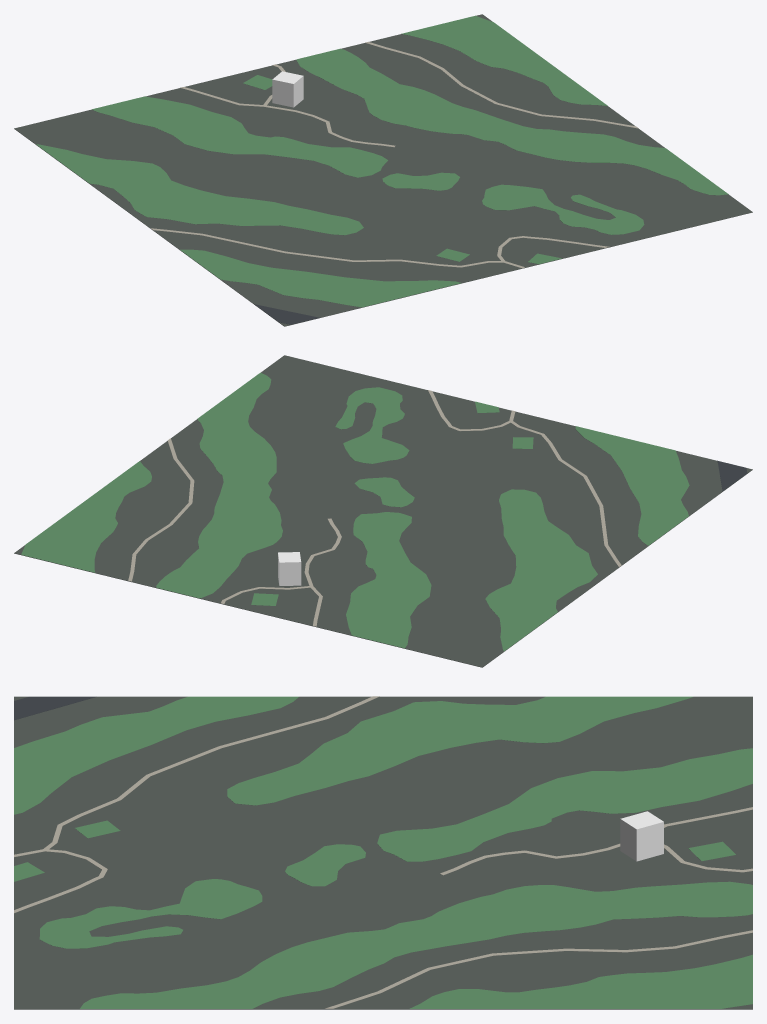
The model's file is tile_001_005.glb.
3 views of the same model, one above another, from view 1: azimuth 30°, elevation 25°; view 2: azimuth 150°, elevation 25°; view 3: azimuth 270°, elevation 25° (orthographic). The views are drawn at different scales.
Visible parts, largest first — view 1: tile_001_005_ground, tile_001_005_open_spaces, tile_001_005_paths, tile_001_005_buildings_neutral, tile_001_005_roads; view 2: tile_001_005_ground, tile_001_005_open_spaces, tile_001_005_paths, tile_001_005_buildings_neutral, tile_001_005_roads; view 3: tile_001_005_ground, tile_001_005_open_spaces, tile_001_005_paths, tile_001_005_buildings_neutral, tile_001_005_roads.
Part boxes in pixels (bbox=[...]): tile_001_005_ground: bbox=[14, 14, 752, 326]; tile_001_005_open_spaces: bbox=[36, 15, 728, 307]; tile_001_005_paths: bbox=[151, 41, 638, 268]; tile_001_005_buildings_neutral: bbox=[272, 71, 303, 107]; tile_001_005_roads: bbox=[254, 304, 319, 324]; tile_001_005_ground: bbox=[14, 355, 752, 667]; tile_001_005_open_spaces: bbox=[21, 372, 689, 651]; tile_001_005_paths: bbox=[128, 390, 621, 626]; tile_001_005_buildings_neutral: bbox=[278, 552, 301, 585]; tile_001_005_roads: bbox=[717, 460, 747, 491]; tile_001_005_ground: bbox=[14, 696, 752, 1009]; tile_001_005_open_spaces: bbox=[14, 696, 752, 1008]; tile_001_005_paths: bbox=[14, 696, 752, 1008]; tile_001_005_buildings_neutral: bbox=[620, 811, 663, 861]; tile_001_005_roads: bbox=[14, 696, 96, 720].
Size of the model in its own units: 250 by 12.16 by 250.
